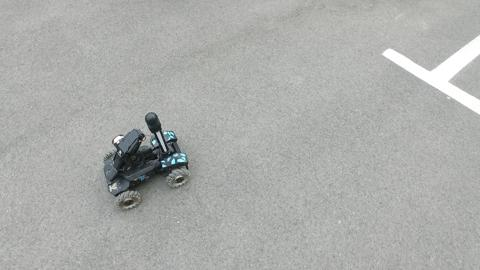chariot: (87, 110, 197, 213)
